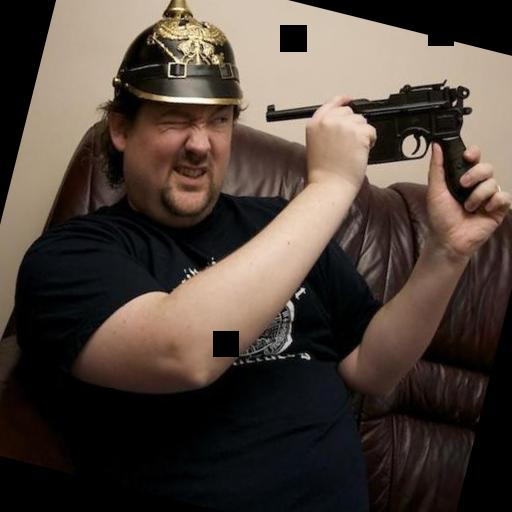Handgun: (254, 38, 499, 207)
